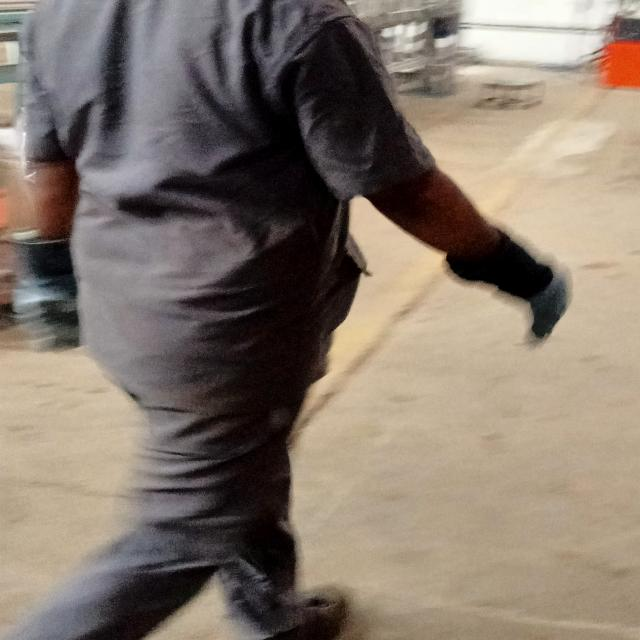Gloves-Detection: (437, 235, 584, 361), (0, 237, 71, 351)
